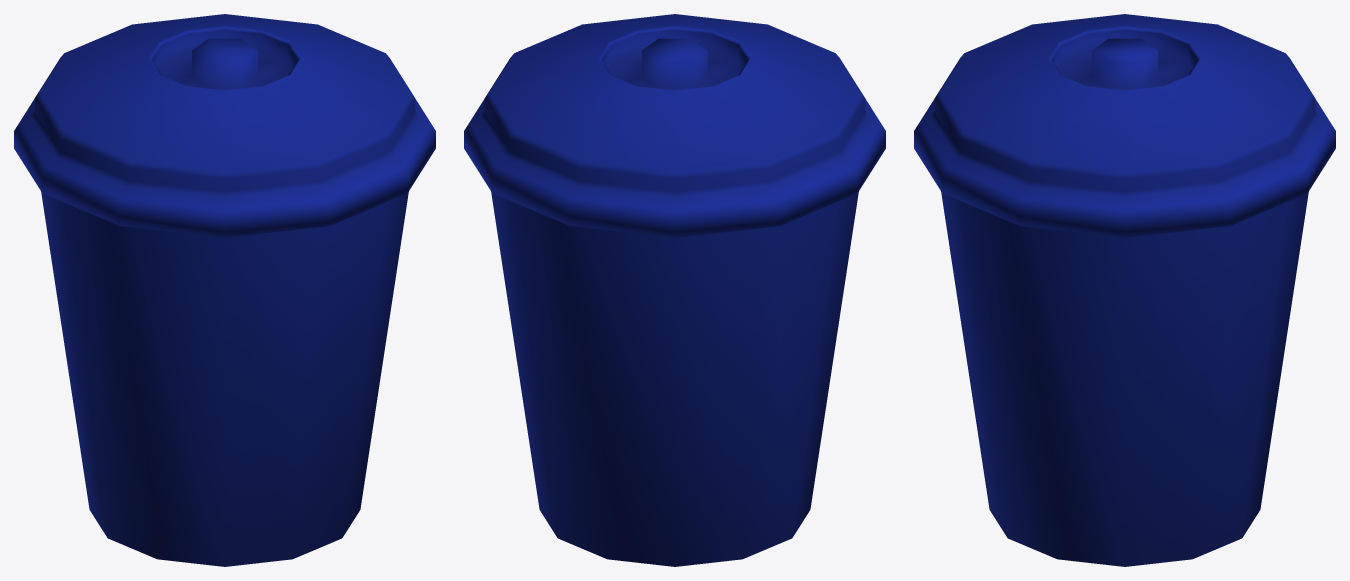
File: CJ_TrashCan_SM.fbx
3 views of the same model, side by side, from view 1: azimuth 30°, elevation 25°; view 2: azimuth 150°, elevation 25°; view 3: azimuth 270°, elevation 25° (orthographic).
Visible parts, largest first — view 1: CJ_TrashCan_SM; view 2: CJ_TrashCan_SM; view 3: CJ_TrashCan_SM.
Boxes of the visible parts, box(x1,y1,x2,y2) form: CJ_TrashCan_SM: box(14, 14, 435, 566); CJ_TrashCan_SM: box(464, 14, 885, 566); CJ_TrashCan_SM: box(914, 14, 1335, 566).
Size of the model in its own units: 58.05 by 69.74 by 58.05.
